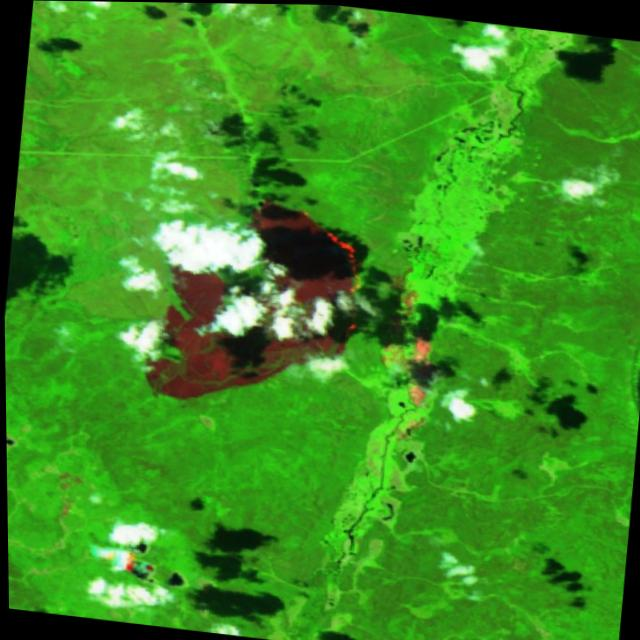fire: (303, 226, 373, 340), (91, 544, 137, 571)
